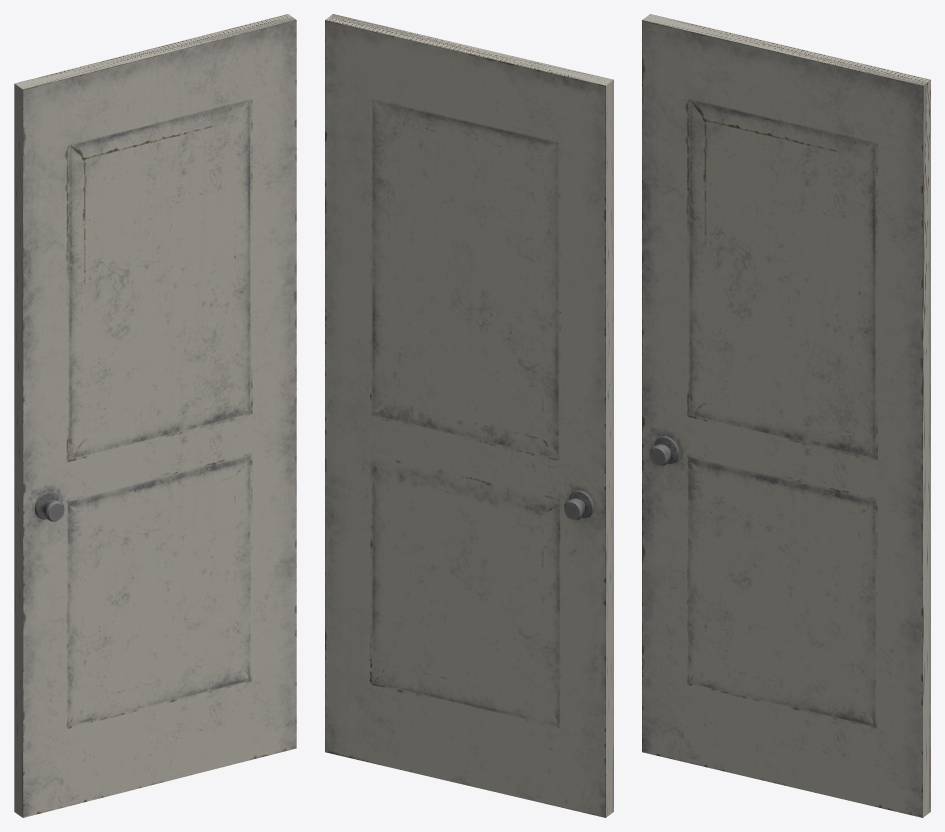
File: hall1Gate3.glb
3 renders of one model, left to right at view 1: azimuth 30°, elevation 25°; view 2: azimuth 150°, elevation 25°; view 3: azimuth 330°, elevation 25°, orthographic.
Parts seen in each view (by area): view 1: Door_low.002_Door_0.005; view 2: Door_low.002_Door_0.005; view 3: Door_low.002_Door_0.005.
Boxes of the visible parts, x1,y1,x2,y2 form: Door_low.002_Door_0.005: [14, 14, 296, 817]; Door_low.002_Door_0.005: [325, 14, 613, 817]; Door_low.002_Door_0.005: [642, 14, 930, 817].
Bounding box in the file's own units: 0.6947 × 1.75 × 0.1179.
1 material, 1 textured.
